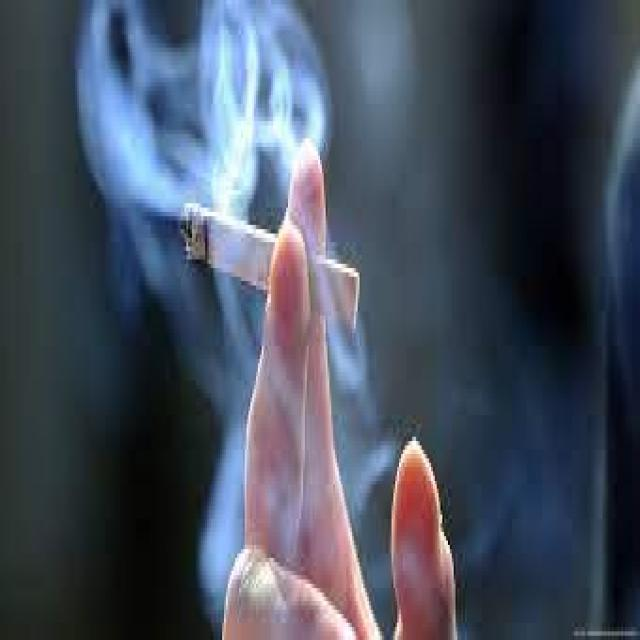cigarette: (179, 203, 277, 294), (309, 255, 360, 331)
